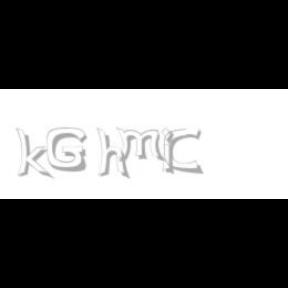C: (164, 128, 201, 174)
G: (46, 128, 86, 172)
h: (96, 128, 132, 180)
i: (161, 128, 177, 176)
k: (15, 128, 53, 180)
m: (115, 128, 167, 162)
